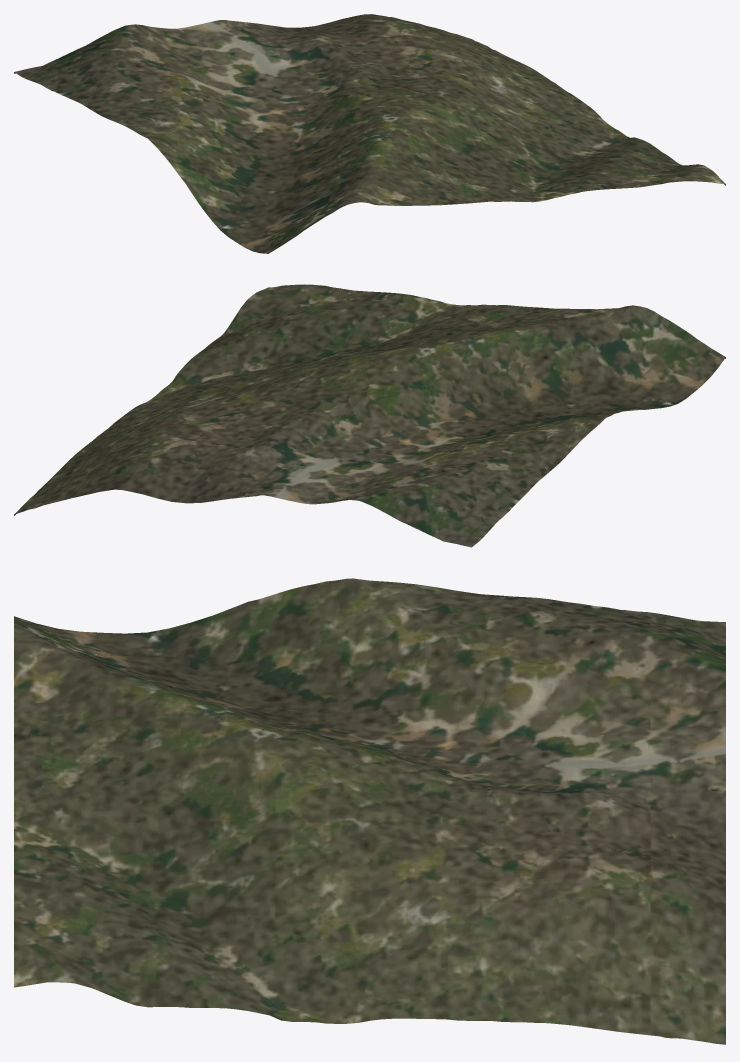
The picture shows the model from 3 angles, top to bottom: view 1: azimuth 30°, elevation 25°; view 2: azimuth 150°, elevation 25°; view 3: azimuth 270°, elevation 25°; orthographic projection. The views are drawn at different scales.
Size of the model in its own units: 250 by 59.86 by 241.
1 material, 1 textured.
